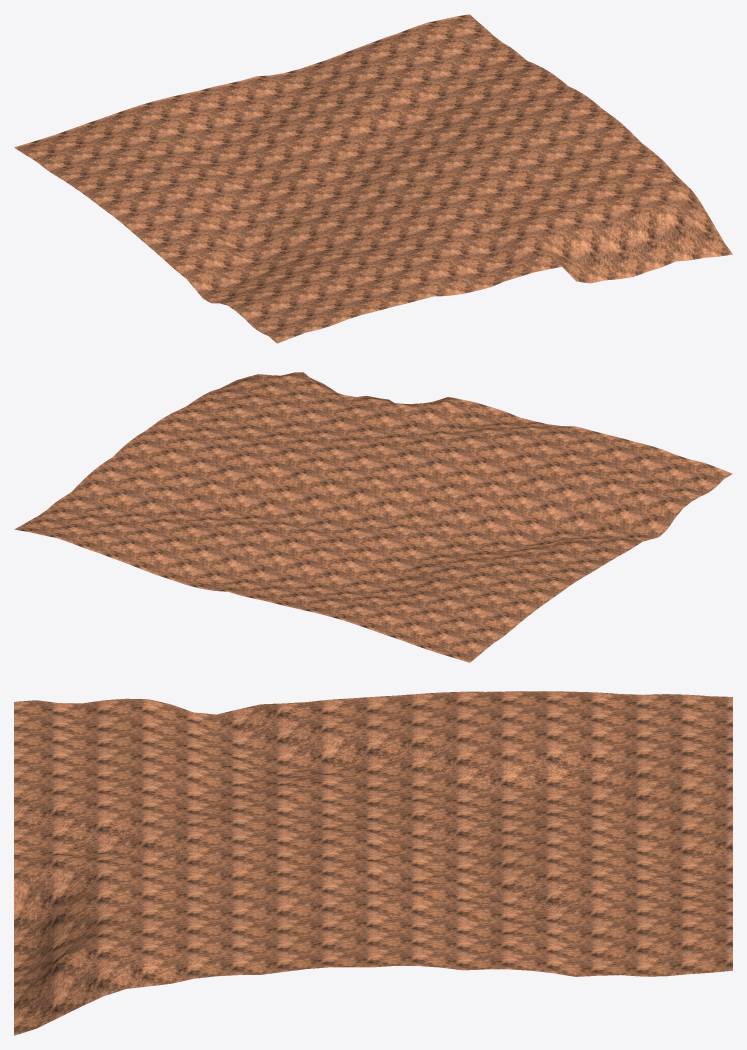
Rendered from terrain_04_10.dae.
3 views of the same model, one above another, from view 1: azimuth 30°, elevation 25°; view 2: azimuth 150°, elevation 25°; view 3: azimuth 270°, elevation 25° (orthographic). The views are drawn at different scales.
Parts seen in each view (by area): view 1: terrain_04_10-node; view 2: terrain_04_10-node; view 3: terrain_04_10-node.
Boxes of the visible parts, x1,y1,x2,y2 form: terrain_04_10-node: (14,14,732,343); terrain_04_10-node: (14,372,732,662); terrain_04_10-node: (14,691,732,1035).
Bounding box in the file's own units: 128 × 128 × 13.73.
1 material, 1 textured.
